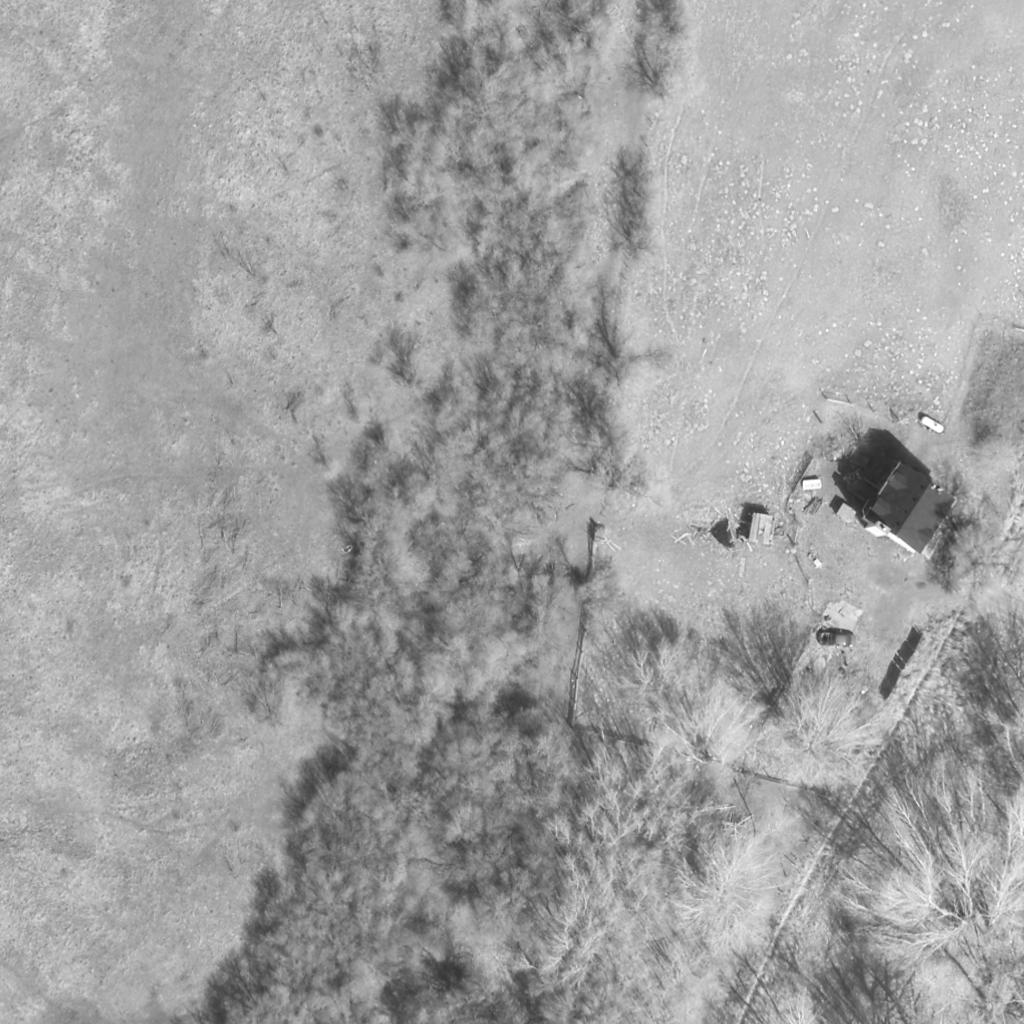vehicle: (819, 628, 859, 650)
